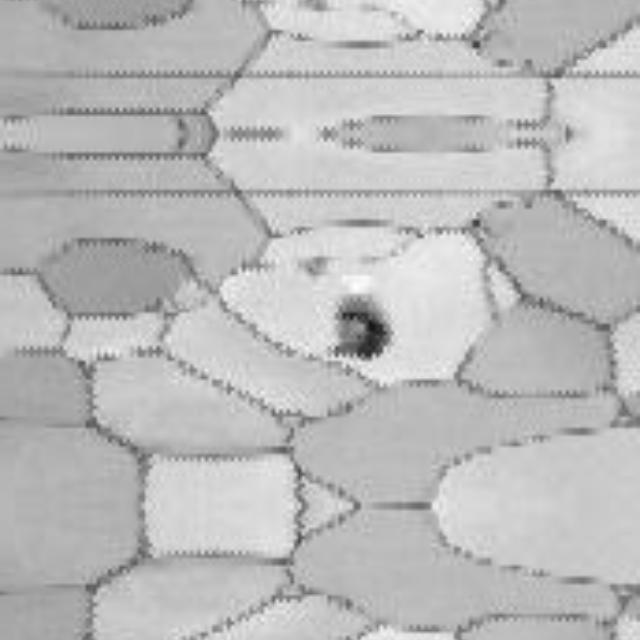good_void: (327, 293, 396, 362)
